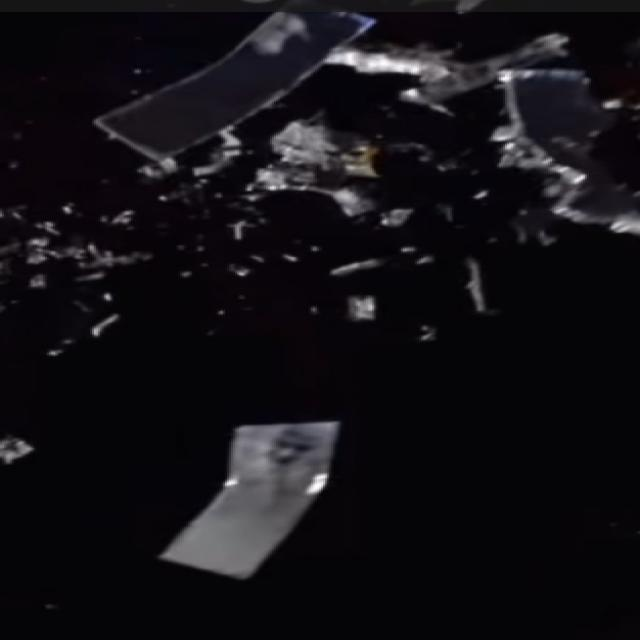large_debris: (72, 0, 400, 167), (141, 394, 362, 625), (457, 37, 640, 264)
